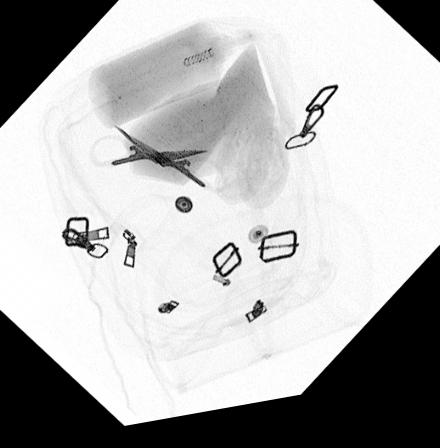Scissors: (88, 125, 230, 202)
